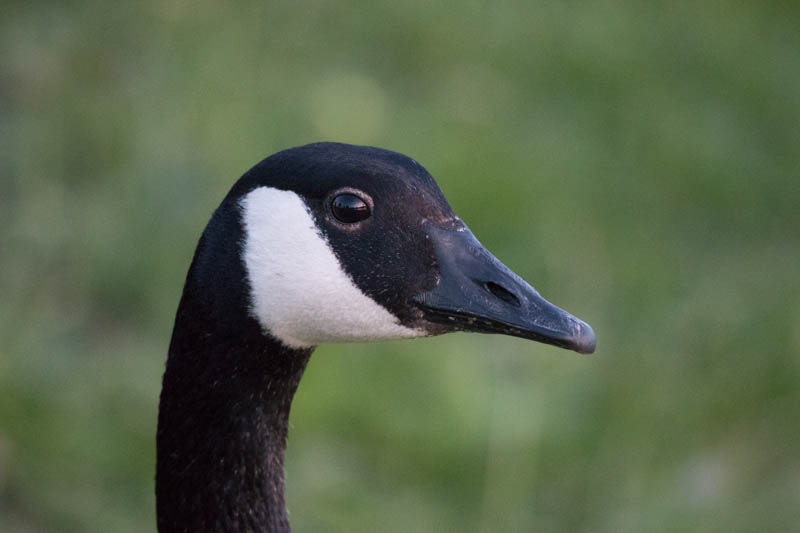goose-head: (182, 140, 597, 356)
